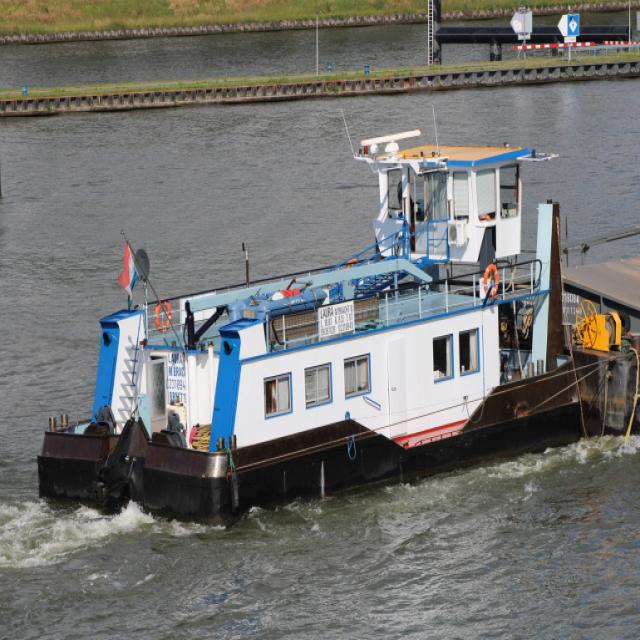tugboat: (35, 127, 620, 535)
